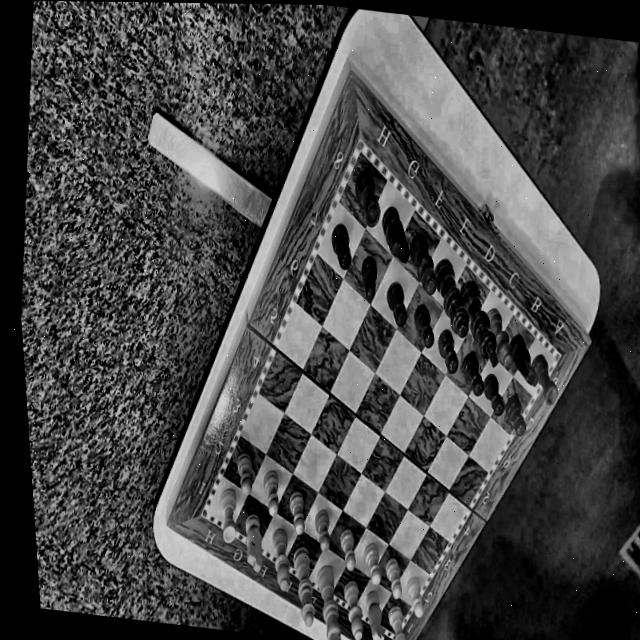chessboard: (207, 150, 552, 634)
